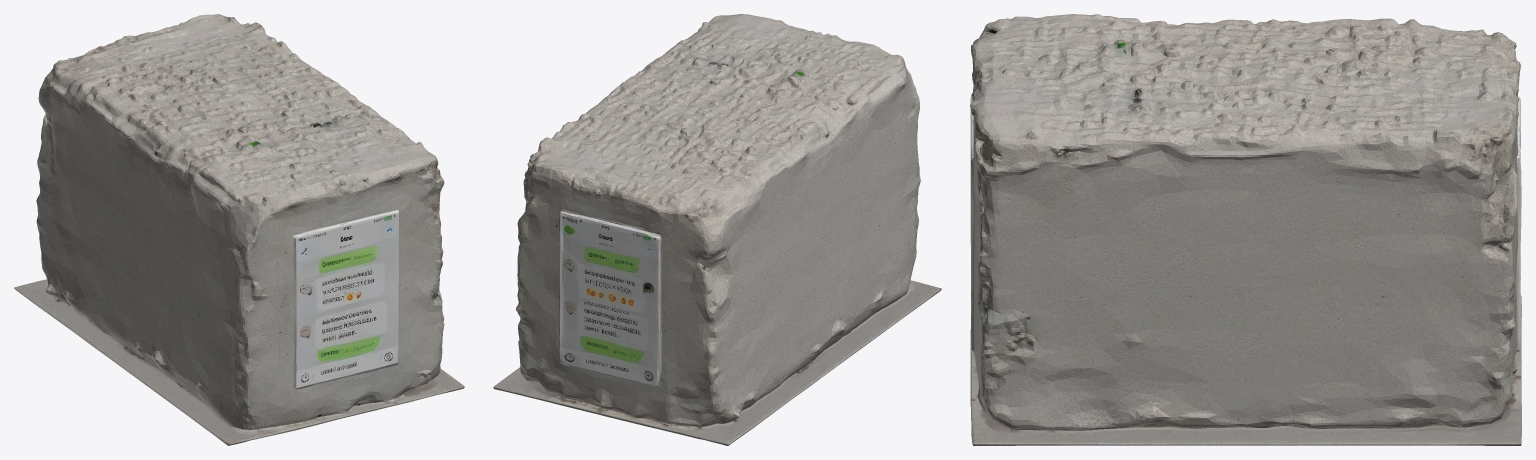
Rendered from tail (96).glb.
3 renders of one model, left to right at view 1: azimuth 30°, elevation 25°; view 2: azimuth 150°, elevation 25°; view 3: azimuth 270°, elevation 25°, orthographic. The views are drawn at different scales.
Parts seen in each view (by area): view 1: Hy21_Mesh.obj; view 2: Hy21_Mesh.obj; view 3: Hy21_Mesh.obj.
Part boxes in pixels (<box>): Hy21_Mesh.obj: <box>14,14,464,445</box>; Hy21_Mesh.obj: <box>493,14,941,445</box>; Hy21_Mesh.obj: <box>970,14,1521,445</box>.
Bounding box in the file's own units: 1.25 × 1.21 × 1.96.
Materials: 1 (1 with a texture image).
